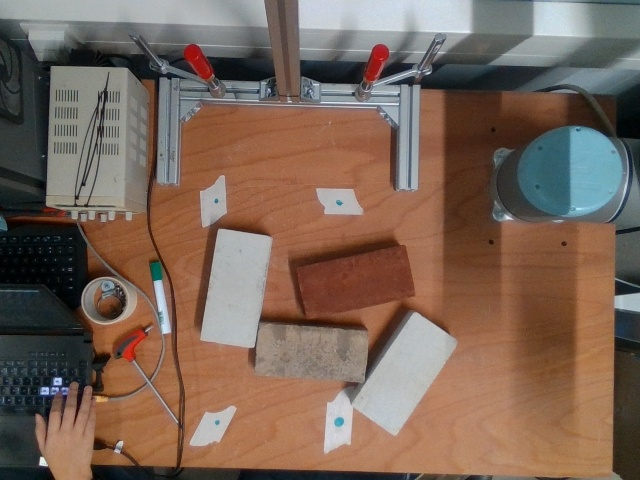brick: (355, 318, 453, 431), (201, 232, 269, 344), (300, 250, 413, 316), (258, 328, 365, 379)
